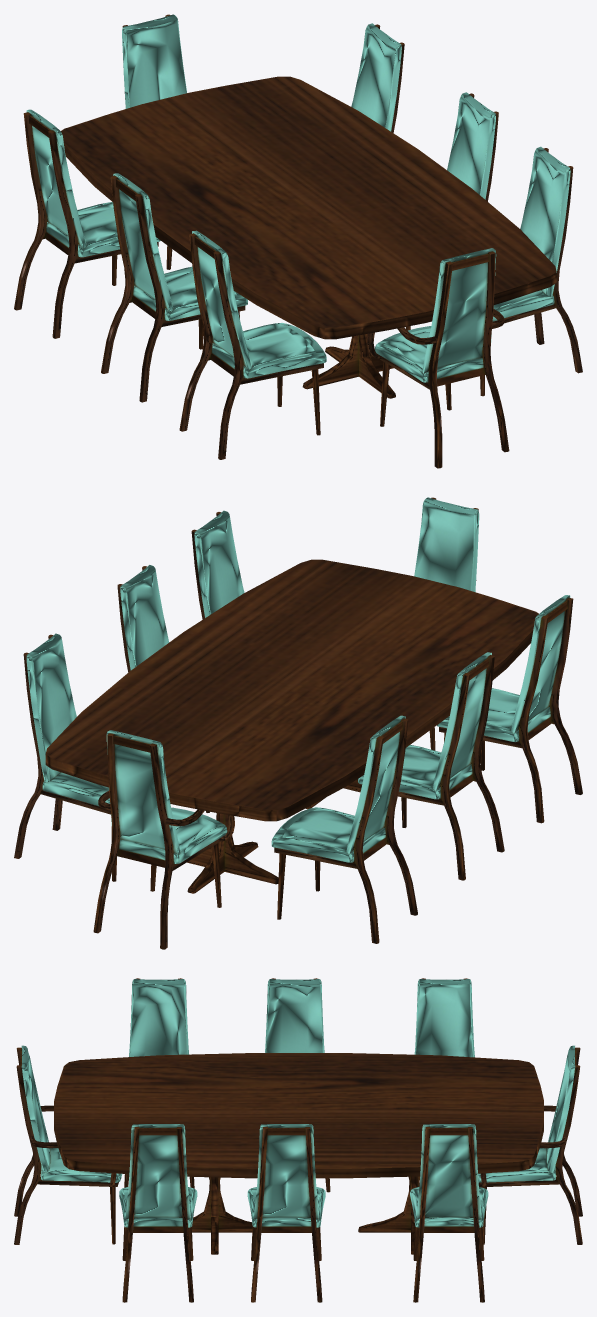
Rendered from mid-century-dining-room---game-ready-eca1dc.glb.
3 renders of one model, top to bottom at view 1: azimuth 30°, elevation 25°; view 2: azimuth 150°, elevation 25°; view 3: azimuth 270°, elevation 25°, orthographic. The views are drawn at different scales.
Parts seen in each view (by area): view 1: PropMesh; view 2: PropMesh; view 3: PropMesh.
Boxes of the visible parts, box(x1,y1,x2,y2) form: PropMesh: box(14, 14, 582, 468); PropMesh: box(14, 497, 582, 949); PropMesh: box(14, 978, 582, 1302).
Bounding box in the file's own units: 1.79 × 0.95 × 2.82.
1 material, 1 textured.
